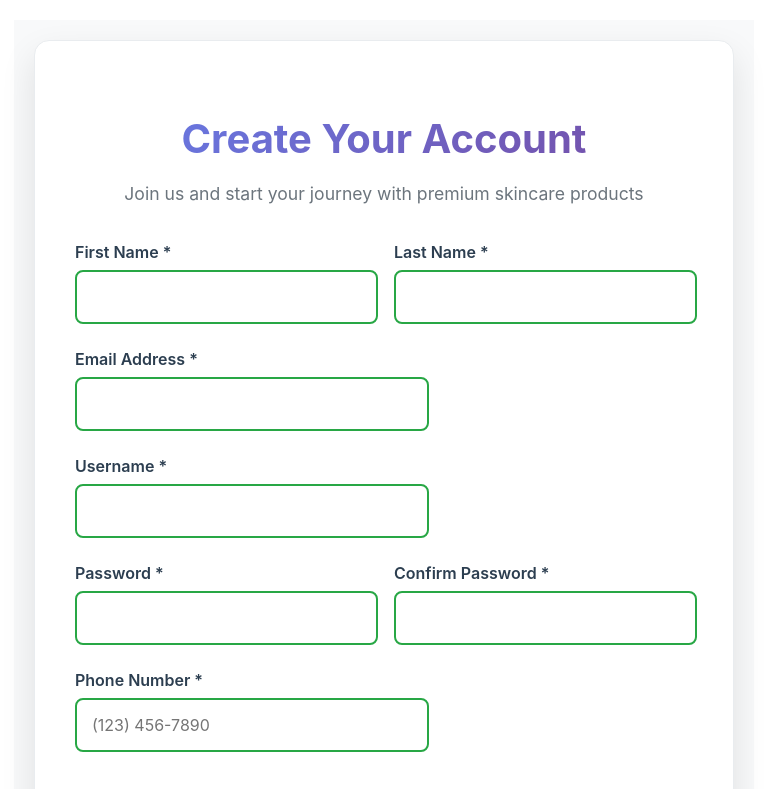
Test: Signup Component › validates password confirmation
Type "password123" into the password field labelled "Password *" at (227, 618), box [75, 591, 378, 645]
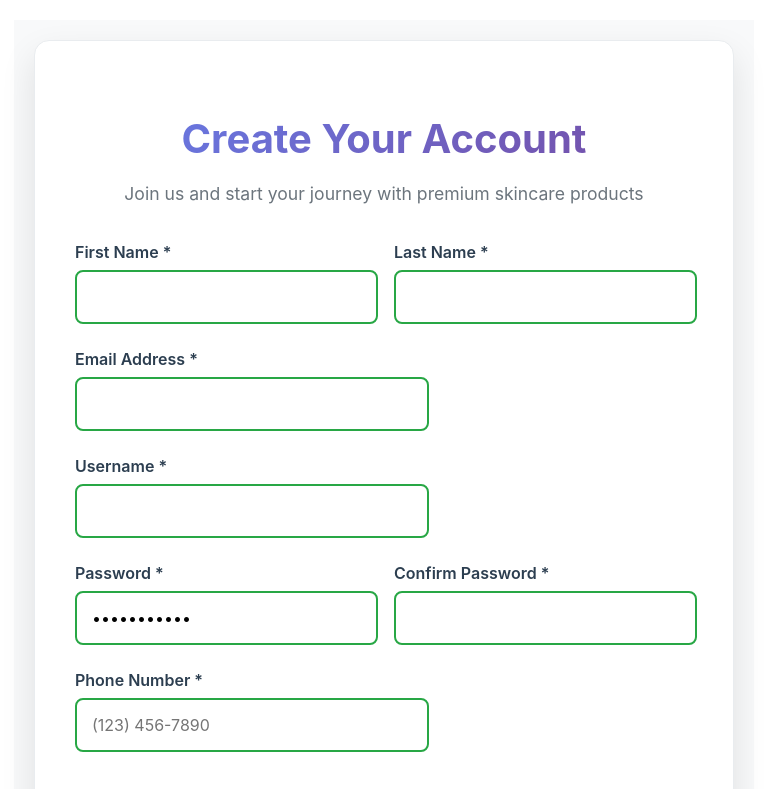
Type "different123" into the password field labelled "Confirm Password *" at (546, 618), box [394, 591, 697, 645]
(page scrolled)
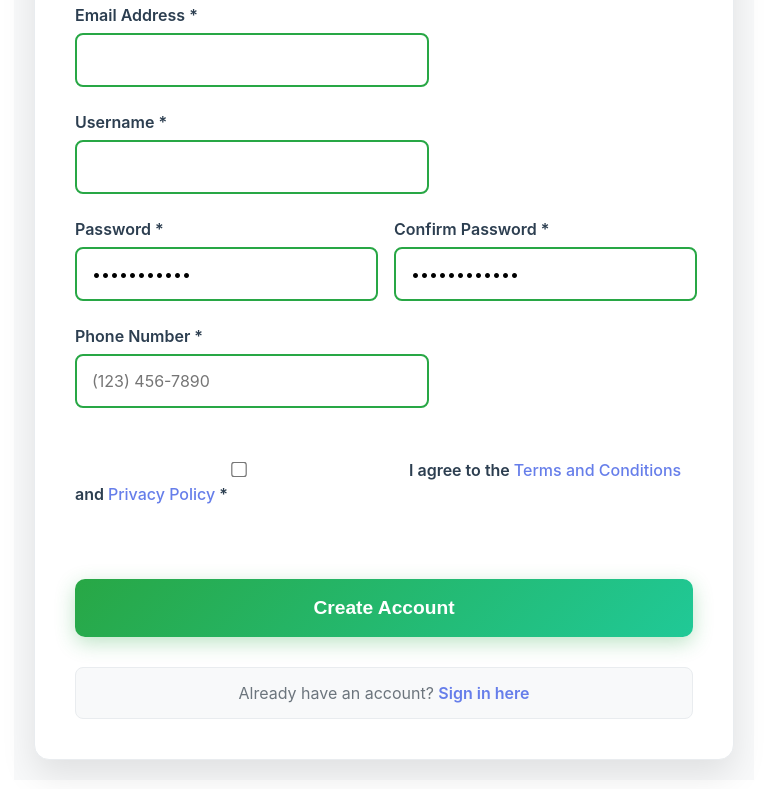
Click the button "Create Account" at (384, 608), box [75, 579, 693, 637]
(page scrolled)
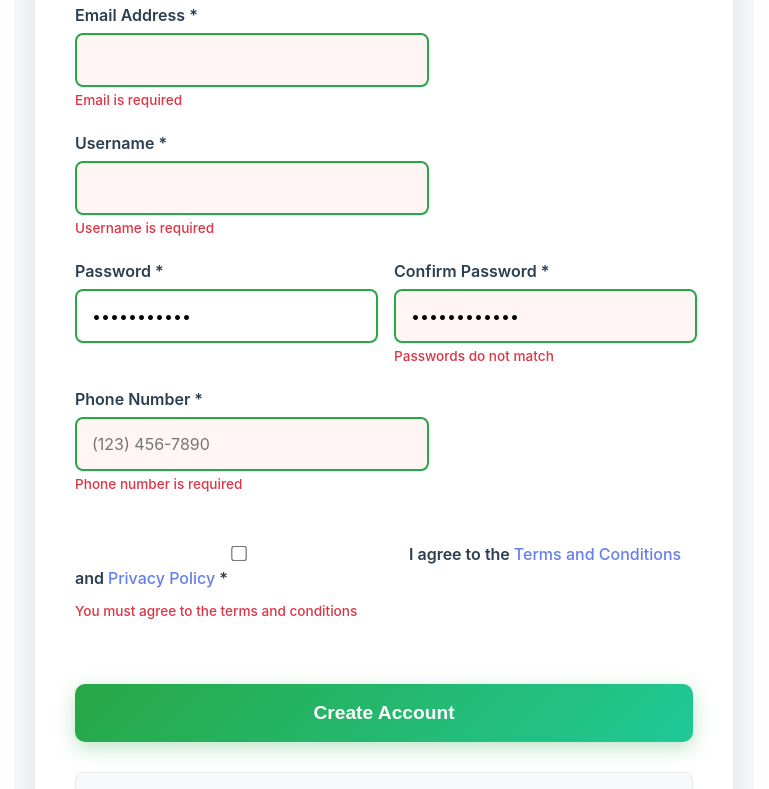
Expected: the text "Passwords do not match" is shown, [394, 348, 554, 364]
